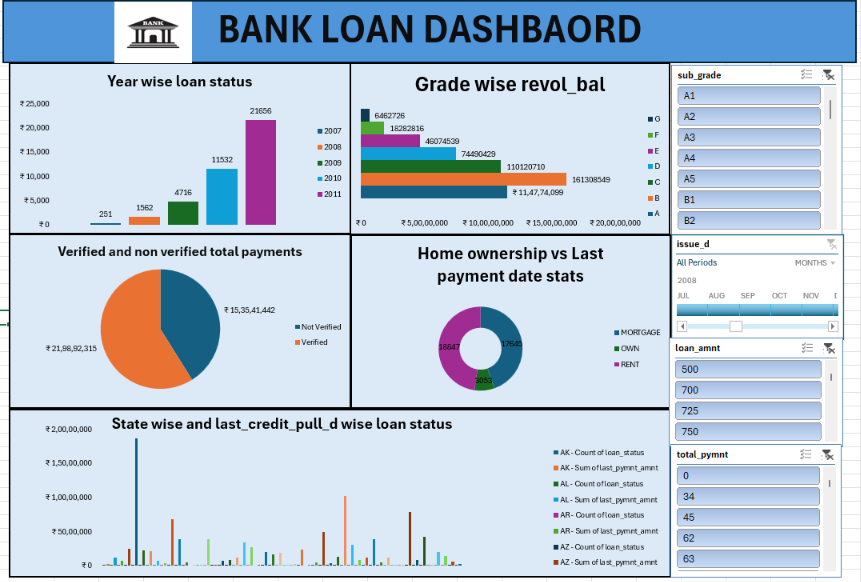

The page's visual inventory and layout, read from the dashboard file:
{"tool":"tableau","page":{"name":"Dashboard 1","canvas":[1000,1000],"units":"permille","ordinal":0},"visuals":[{"type":"image","param":"C:/Users/nikhi/OneDrive/Pictures/Saved Pictures/WhatsApp Image 2026-04-24 at 2.0","box":[172.6,5.4,140.1,145.5]},{"type":"title","box":[4.8,8.7,990.3,142.2]},{"type":"filter","title":"KPI 1","param":"[federated.064cw8b1llub6a1h20l1q1bwkzru].[none:loan_status:nk]","box":[393.1,153.1,123,82.5]},{"type":"worksheet","title":"funded amount","mark":"Automatic","box":[516.7,156.3,159.9,172.6]},{"type":"worksheet","title":"loan amount","mark":"Automatic","box":[834.2,156.3,163.4,169.4]},{"type":"worksheet","title":"total payments","mark":"Automatic","box":[679,157.4,153.5,169.4]},{"type":"filter","title":"KPI 1","param":"[federated.064cw8b1llub6a1h20l1q1bwkzru].[yr:issue_d:ok]","box":[394.3,237.8,123,86.9]},{"type":"worksheet","title":"KPI 3","mark":"Pie","rows":["Calculation_0478350336057345","Calculation_0478350336057345"],"box":[727,326.8,270.1,336.6]},{"type":"worksheet","title":"KPI 1","mark":"Bar","rows":["loan_amnt"],"cols":["issue_d"],"box":[393.7,329,333.3,333.3]},{"type":"worksheet","title":"KPI 4","mark":"Automatic","rows":["last_credit_pull_d","loan_status"],"cols":["addr_state"],"box":[394.3,663.4,604,333.3]}]}

Visuals, with their boxes on the dashboard's canvas, which has no fixed pixel size, in thousandths of its width and height (x1, y1, x2, y2). These are canvas units, not pixel positions in the 861x582 screenshot, which may show the page scaled, cropped or inside an application window:
image: crop(173, 5, 313, 151)
title: crop(5, 9, 995, 151)
"KPI 1" filter: crop(393, 153, 516, 236)
"funded amount" worksheet: crop(517, 156, 677, 329)
"loan amount" worksheet: crop(834, 156, 998, 326)
"total payments" worksheet: crop(679, 157, 832, 327)
"KPI 1" filter: crop(394, 238, 517, 325)
"KPI 3" worksheet (Pie marks): crop(727, 327, 997, 663)
"KPI 1" worksheet (Bar marks): crop(394, 329, 727, 662)
"KPI 4" worksheet: crop(394, 663, 998, 997)
